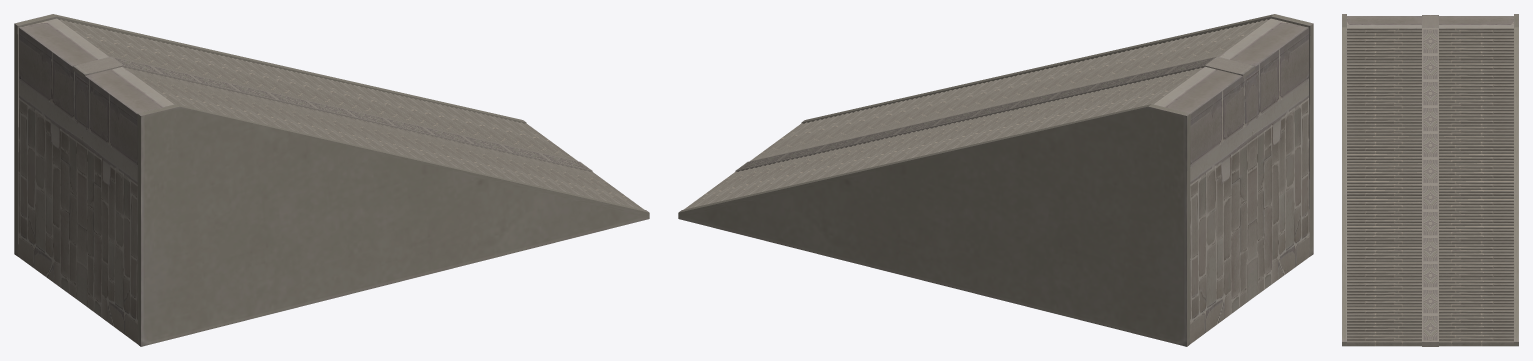
Rendered from mod_zlc_jianzhu071_xy.FBX.
3 views of the same model, side by side, from view 1: azimuth 30°, elevation 25°; view 2: azimuth 150°, elevation 25°; view 3: azimuth 270°, elevation 25° (orthographic). The views are drawn at different scales.
Parts seen in each view (by area): view 1: mod_zlc_jianzhu071_xy; view 2: mod_zlc_jianzhu071_xy; view 3: mod_zlc_jianzhu071_xy.
Boxes of the visible parts, left/top/right/bottom form: mod_zlc_jianzhu071_xy: left=14, top=14, right=649, bottom=346; mod_zlc_jianzhu071_xy: left=678, top=14, right=1313, bottom=346; mod_zlc_jianzhu071_xy: left=1342, top=14, right=1518, bottom=346.
Bounding box in the file's own units: 1375 × 597 × 592.
Materials: 1 (1 with a texture image).
